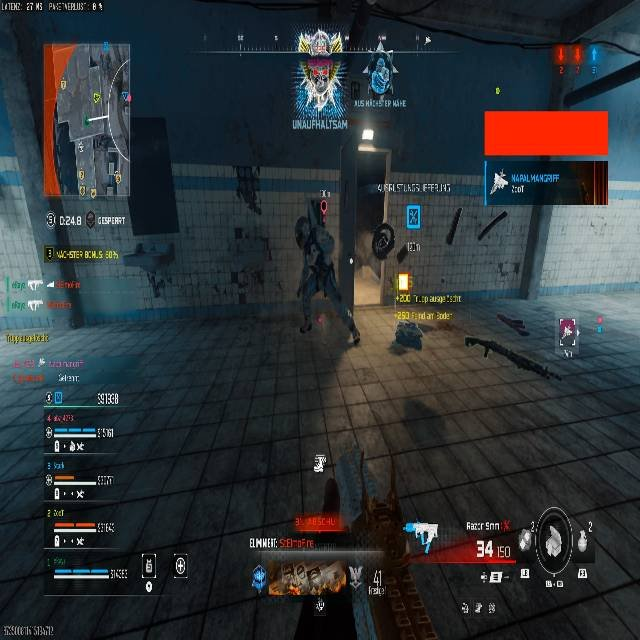head: (315, 196, 331, 220)
player: (293, 204, 360, 346), (391, 319, 424, 352)
